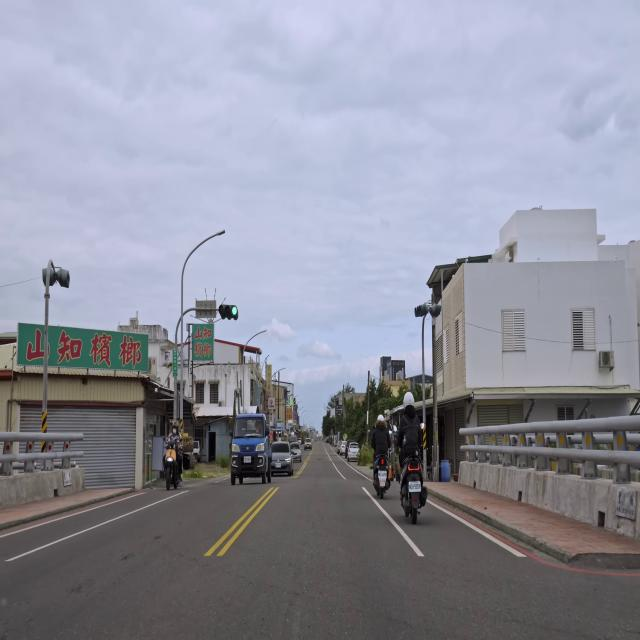green light: (219, 304, 238, 321)
